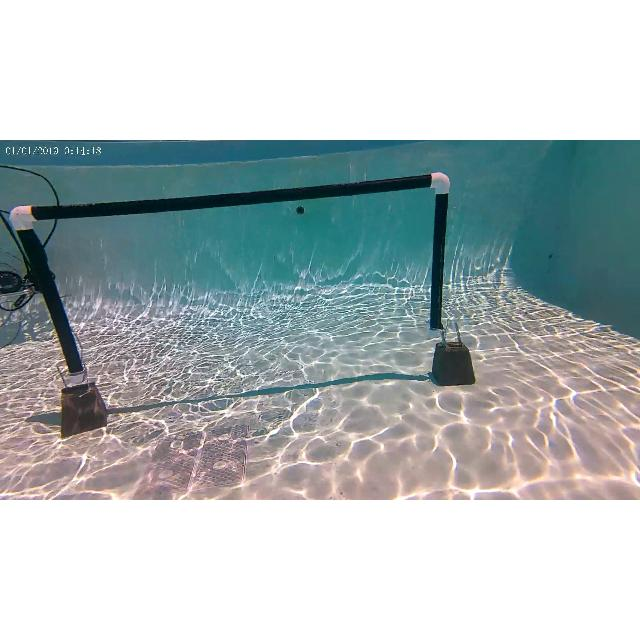prequal gate: (9, 172, 451, 386)
prequal gate leg l: (3, 204, 108, 441)
prequal gate leg r: (420, 167, 478, 389)
